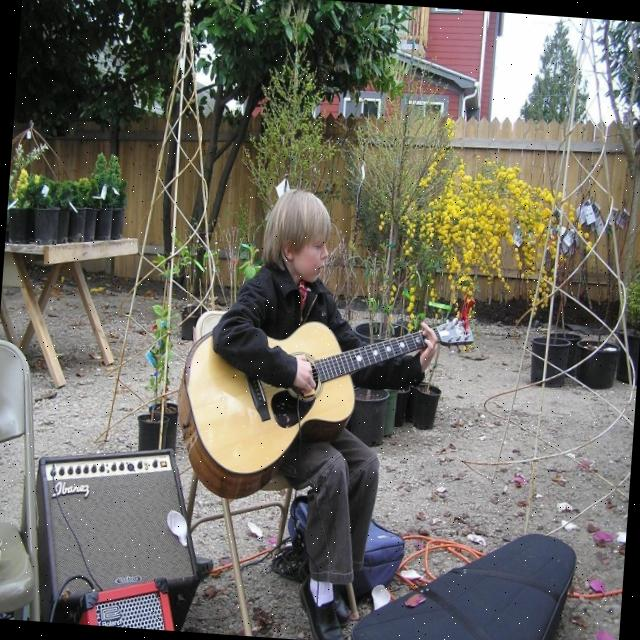guitar: (174, 291, 476, 512)
